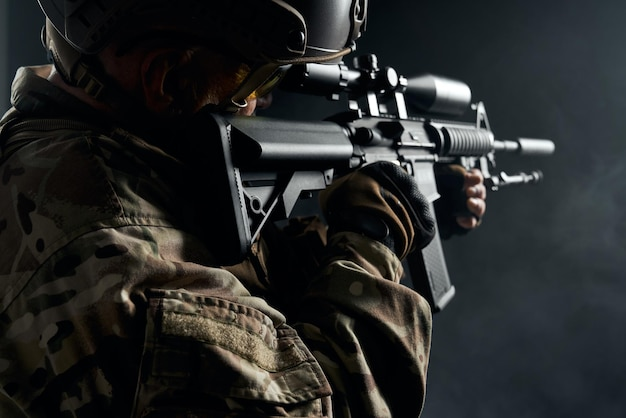gun: (212, 53, 557, 314)
